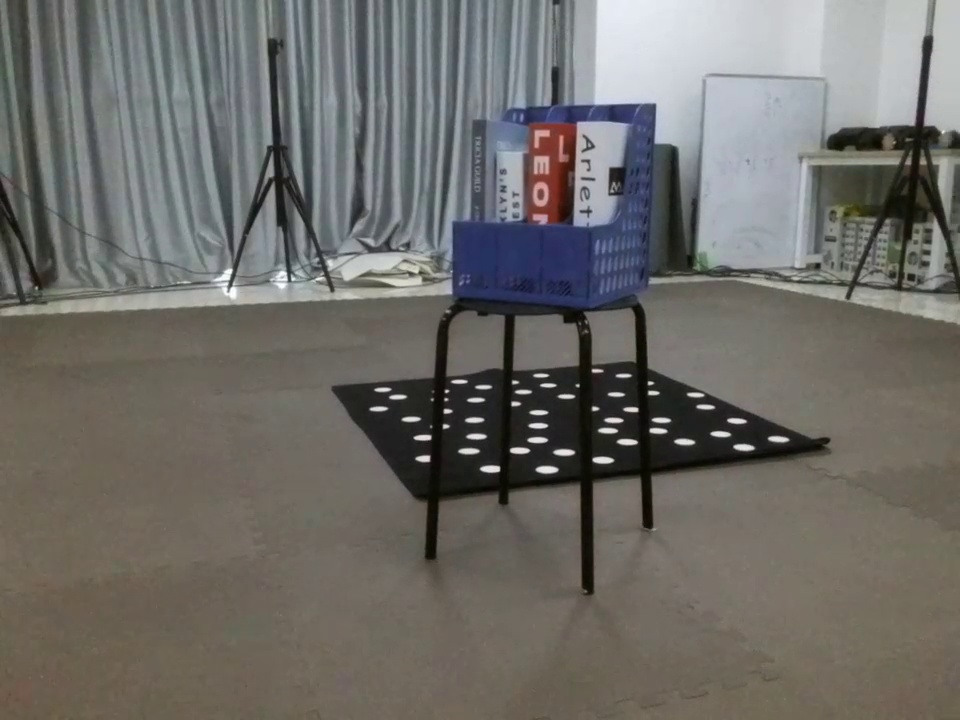files: (447, 91, 665, 312)
